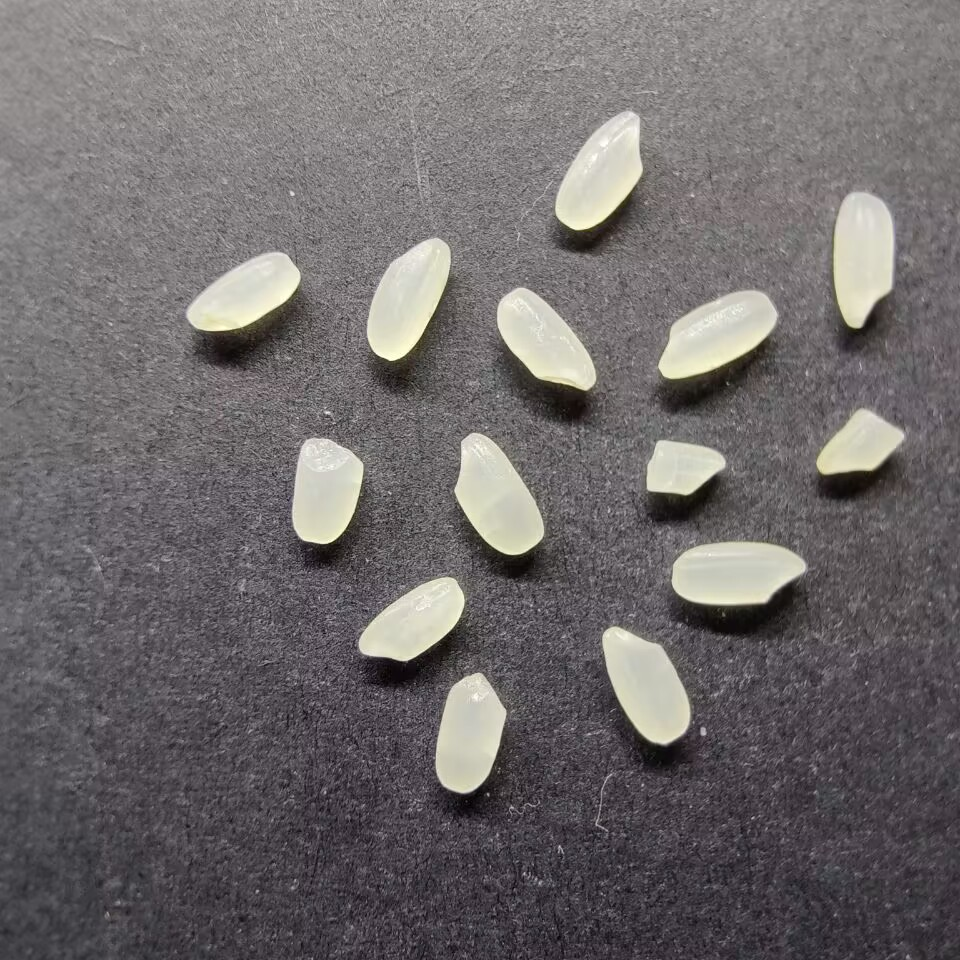broken: (290, 434, 362, 546), (815, 407, 908, 477), (643, 436, 727, 497)
rice: (552, 107, 645, 232), (452, 431, 544, 557), (656, 289, 781, 380), (600, 625, 693, 747), (493, 284, 598, 392), (363, 235, 450, 362), (669, 539, 811, 608), (183, 250, 301, 333), (356, 573, 465, 662), (431, 670, 509, 794), (829, 191, 897, 330)
